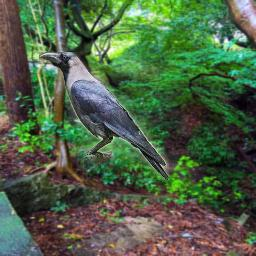Crow: (39, 52, 169, 180)
